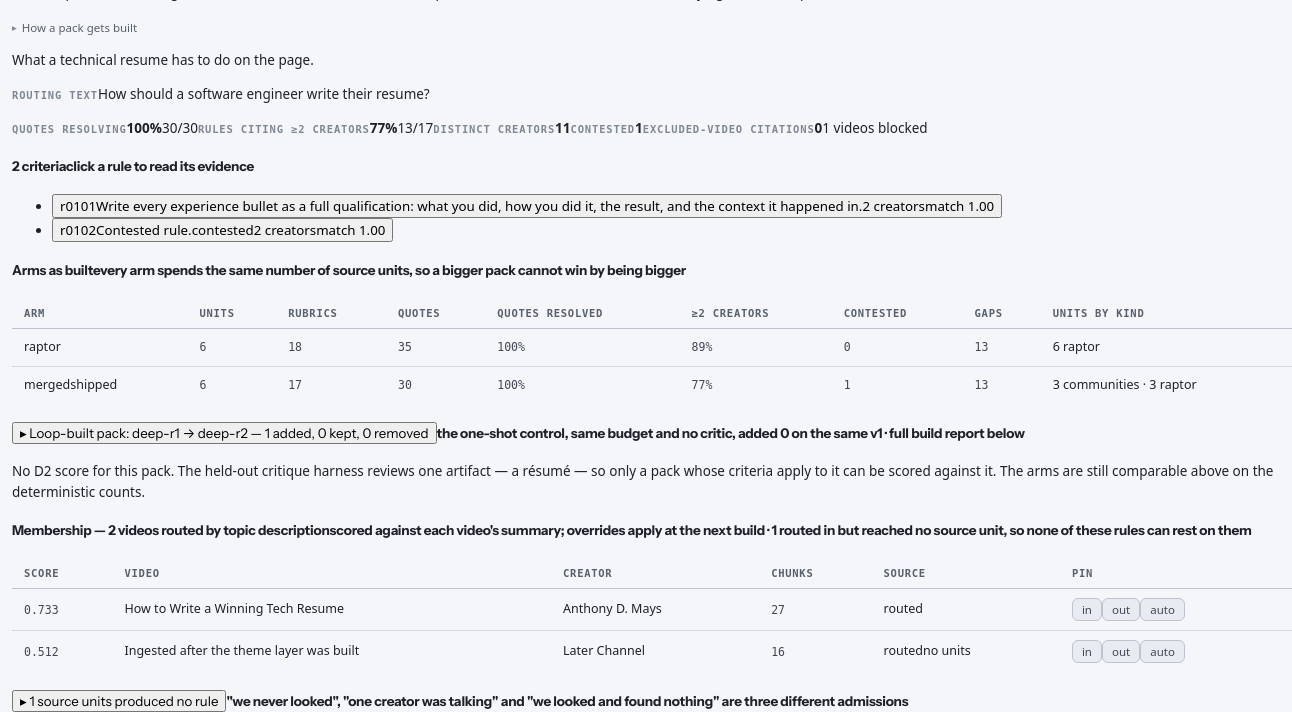
Test: PackPanel › records a membership override and says it applies at the next build
(page scrolled)
Click the button "out" in the row of "0.733". click: (1121, 610)
box: [1102, 598, 1140, 621]
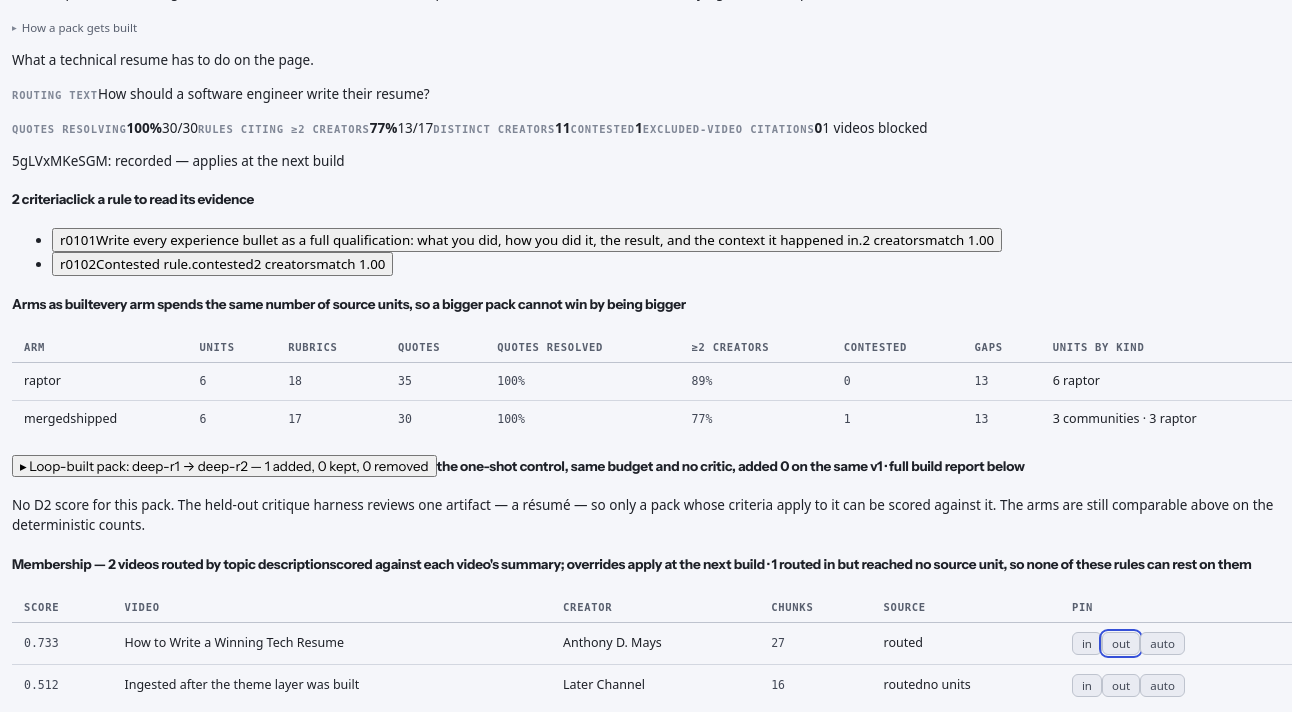
Expected: the text "5gLVxMKeSGM: recorded — applies at the next build" is shown, [12, 152, 345, 170]
